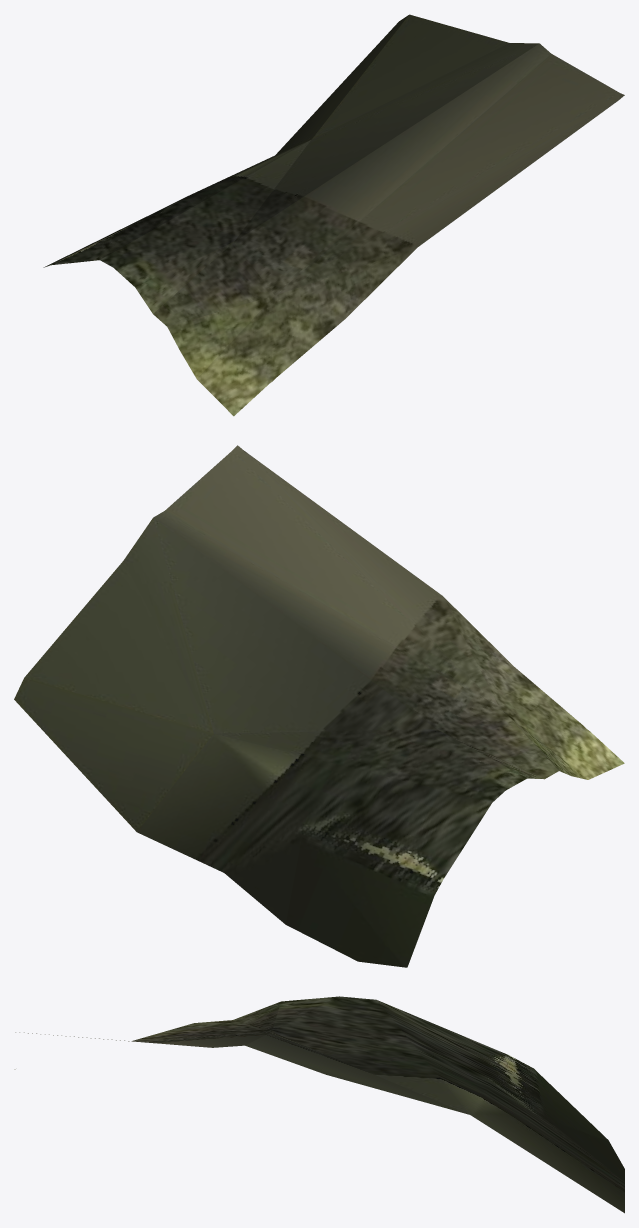
3 views of the same model, one above another, from view 1: azimuth 30°, elevation 25°; view 2: azimuth 150°, elevation 25°; view 3: azimuth 270°, elevation 25° (orthographic). The views are drawn at different scales.
Bounding box in the file's own units: 5.9 × 3.91 × 5.9.
Materials: 3 (3 with a texture image).
